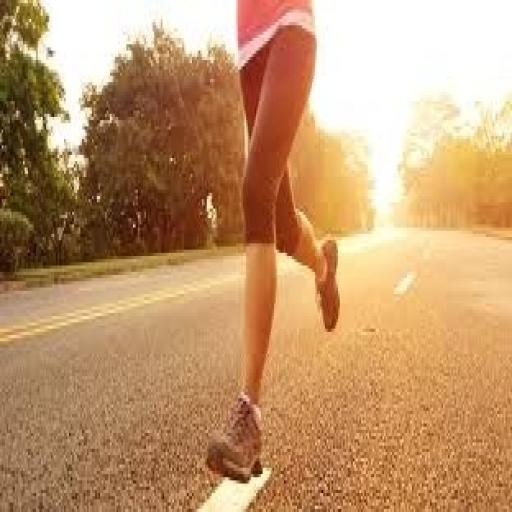running: (203, 0, 343, 484)
